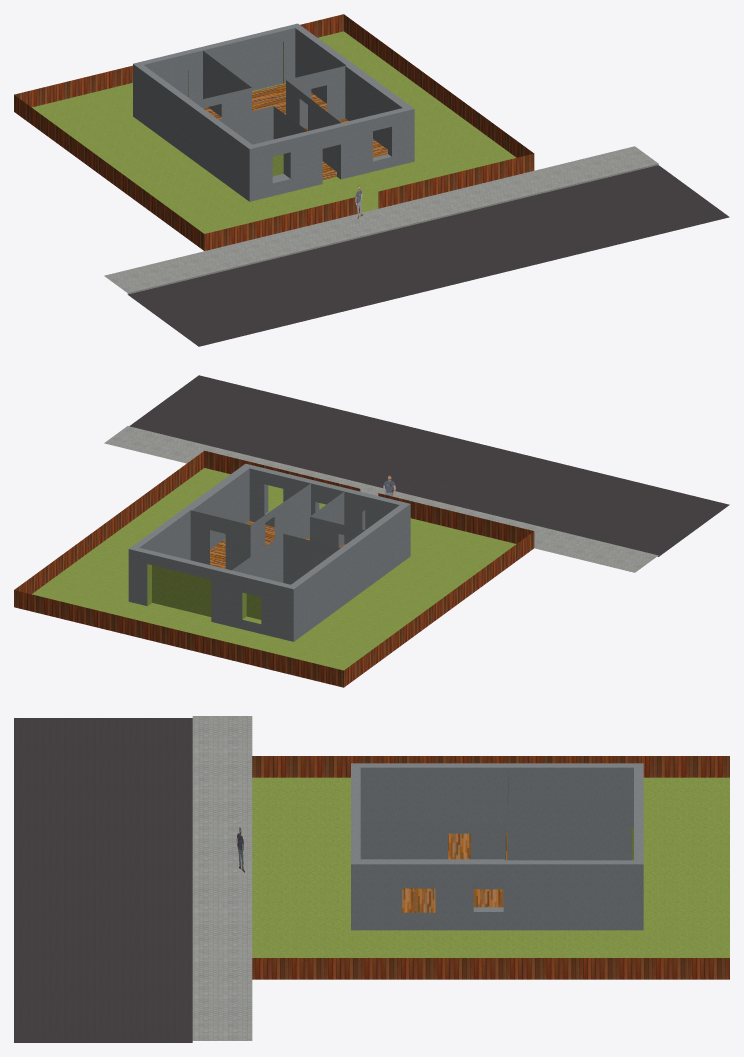
The model's file is GruppeB.glb.
3 views of the same model, one above another, from view 1: azimuth 30°, elevation 25°; view 2: azimuth 150°, elevation 25°; view 3: azimuth 270°, elevation 25° (orthographic). The views are drawn at different scales.
Visible parts, largest first — view 1: ID465, ID504, ID478, SketchUp, ID452, ID605, ID597, ID589, ID491; view 2: ID465, ID478, ID504, SketchUp, ID452, ID605, ID597, ID557, ID589, ID491, ID565; view 3: ID465, ID478, ID504, ID452, SketchUp, ID597, ID605, ID491, ID589.
Boxes of the visible parts, x1,y1,x2,y2 form: ID465: (128,165,729,346); ID504: (133,23,414,201); ID478: (32,31,516,233); SketchUp: (14,14,534,250); ID452: (104,146,658,294); ID605: (286,66,345,171); ID597: (193,51,251,138); ID589: (218,106,307,144); ID491: (204,83,387,179); ID465: (129,375,729,556); ID478: (32,468,516,670); ID504: (128,463,410,641); SketchUp: (14,450,534,687); ID452: (104,426,658,572); ID605: (190,483,310,570); ID597: (232,534,340,584); ID557: (147,564,211,617); ID589: (310,492,364,567); ID491: (210,521,345,568); ID565: (242,592,261,623); ID465: (14,718,192,1042); ID478: (252,777,729,957); ID504: (351,763,643,930); ID452: (192,716,252,1040); SketchUp: (252,756,729,979); ID597: (507,769,633,860); ID605: (360,822,505,889); ID491: (402,833,507,912); ID589: (360,801,446,822).
Size of the model in its own units: 32.2 by 3.14 by 29.98.
Materials: 85 (19 with a texture image).
